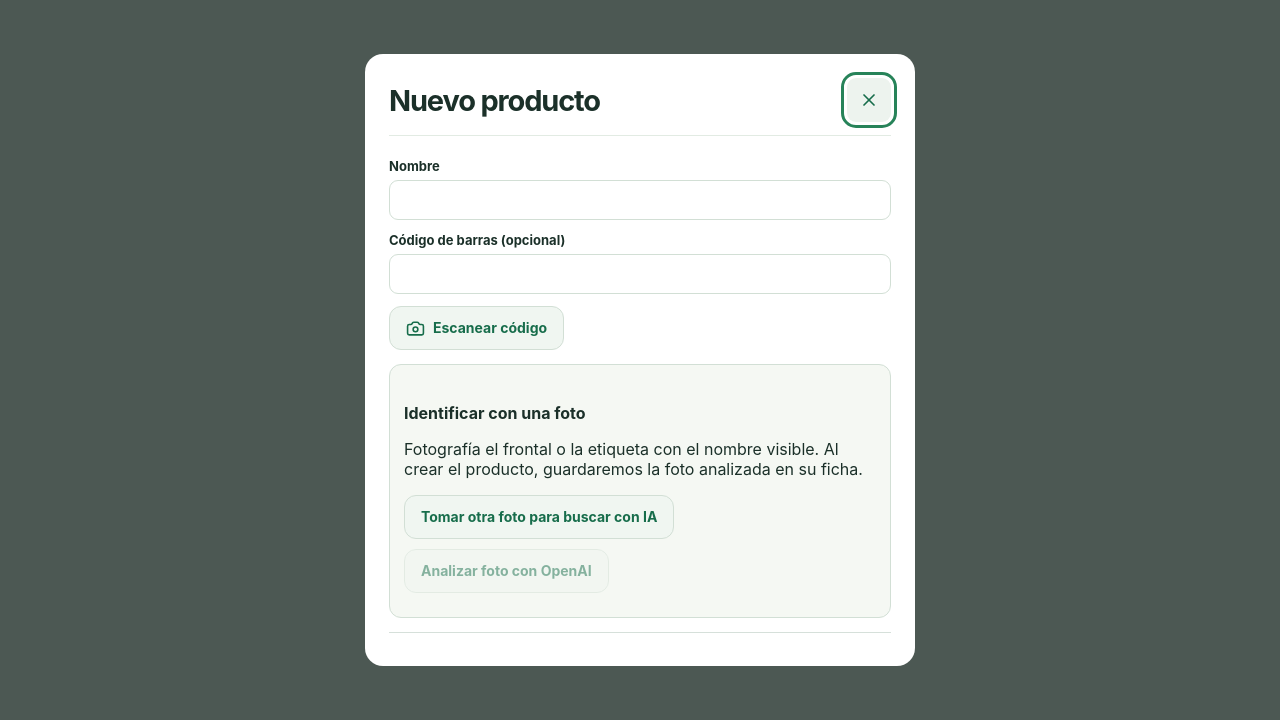
creates once on double click even when photo persistence fails
In the field labelled "Nombre": x=640, y=200 left=389, top=180, right=891, bottom=220, type "Leche"
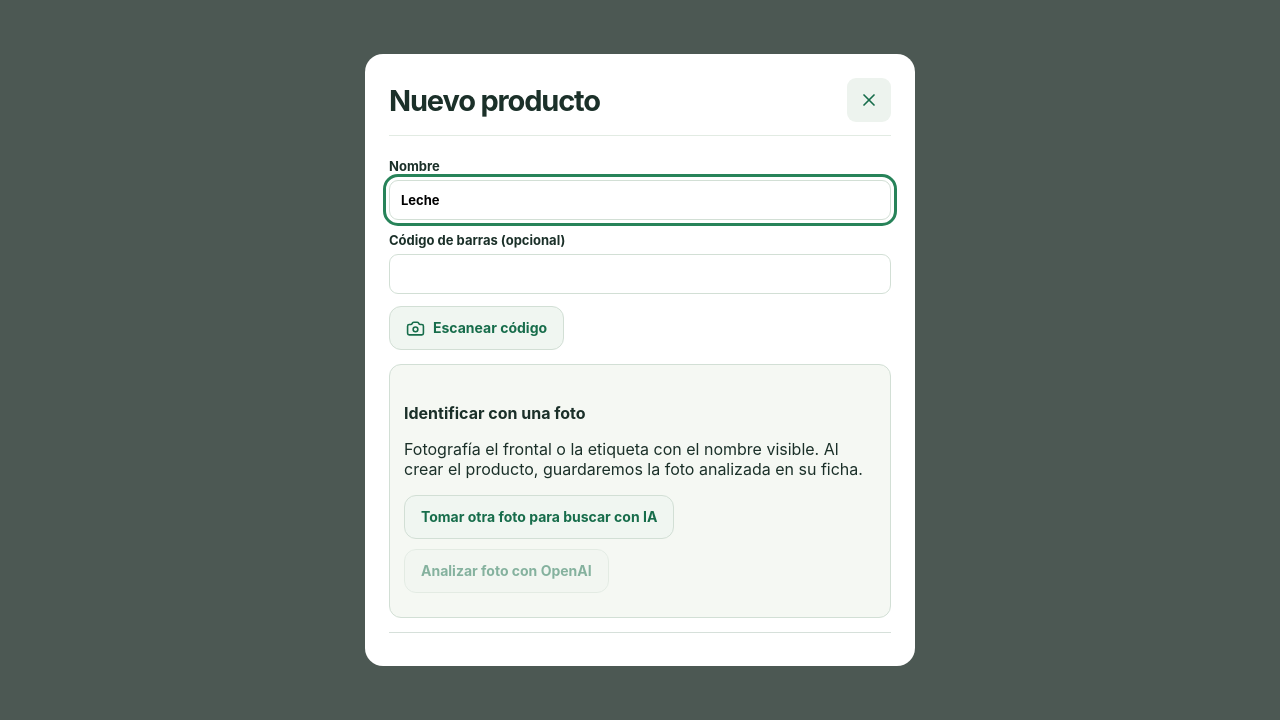
In the field labelled "Código de barras (opcional)": x=640, y=274 left=389, top=254, right=891, bottom=294, type "8412345678901"
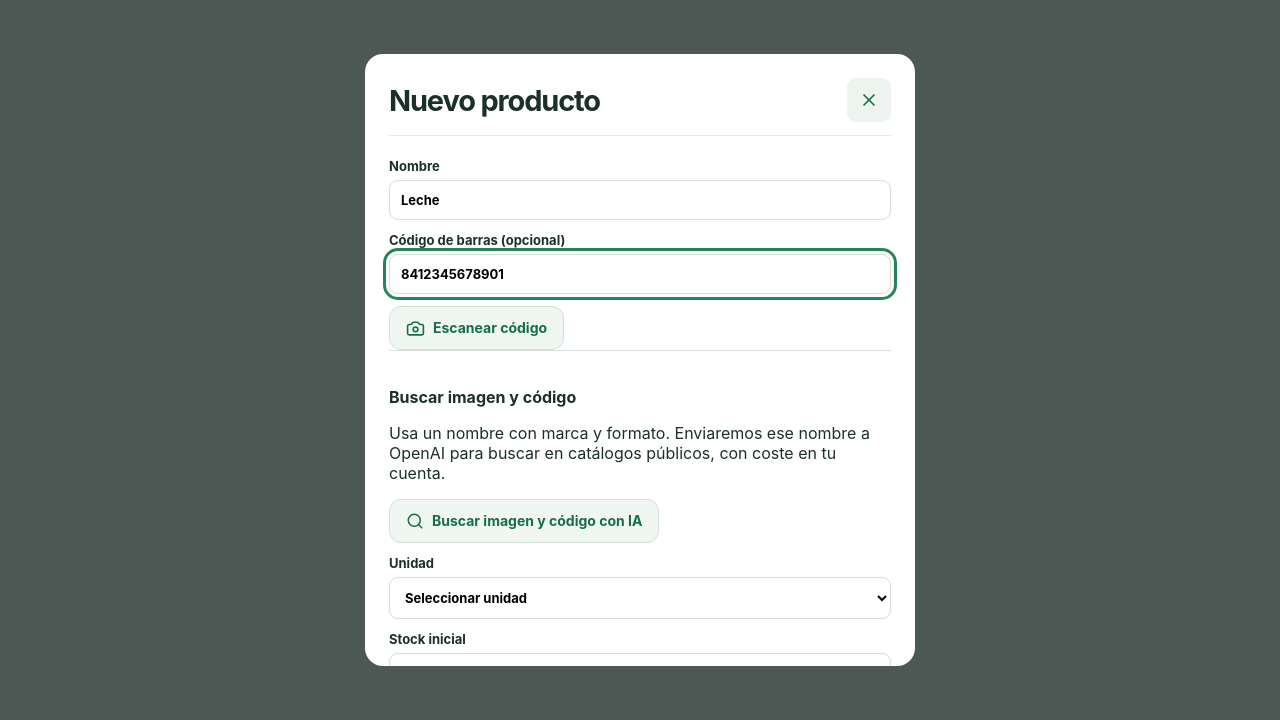
Select "Piece" in the dropdown labelled "Unidad": x=640, y=598 left=389, top=577, right=891, bottom=619
(page scrolled)
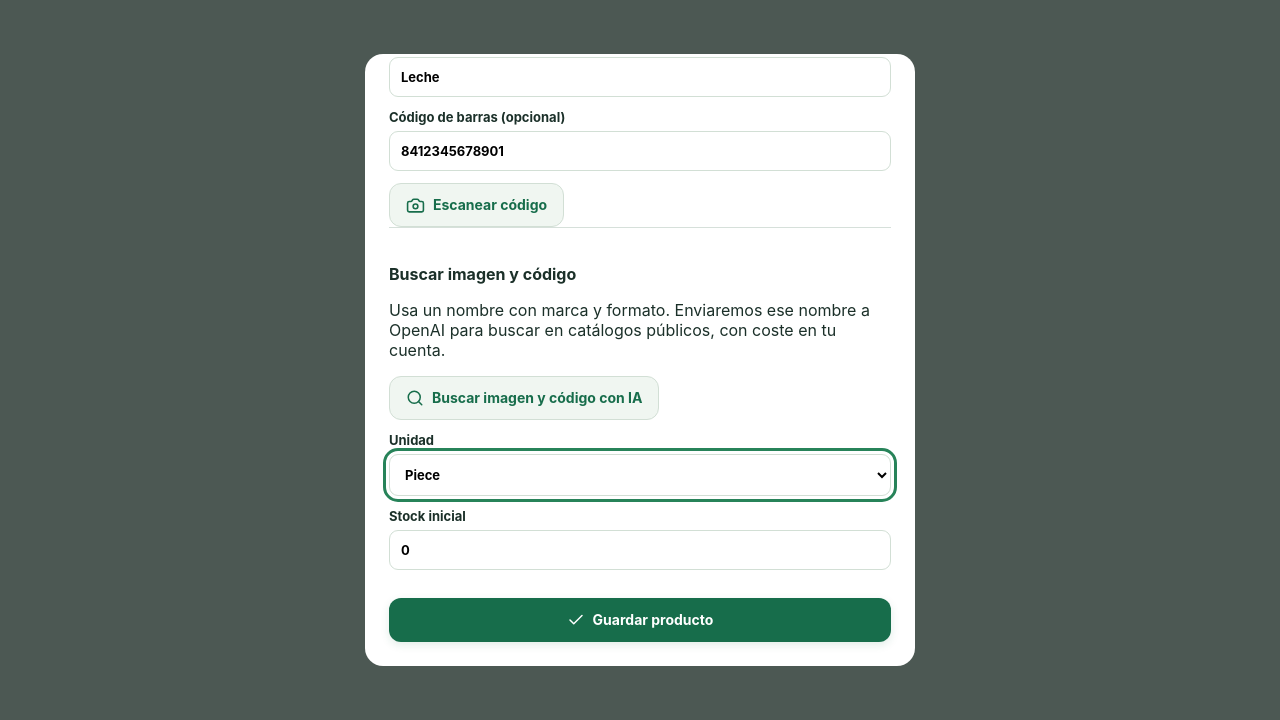
Double-click the button "Guardar producto": x=640, y=620 left=389, top=598, right=891, bottom=642
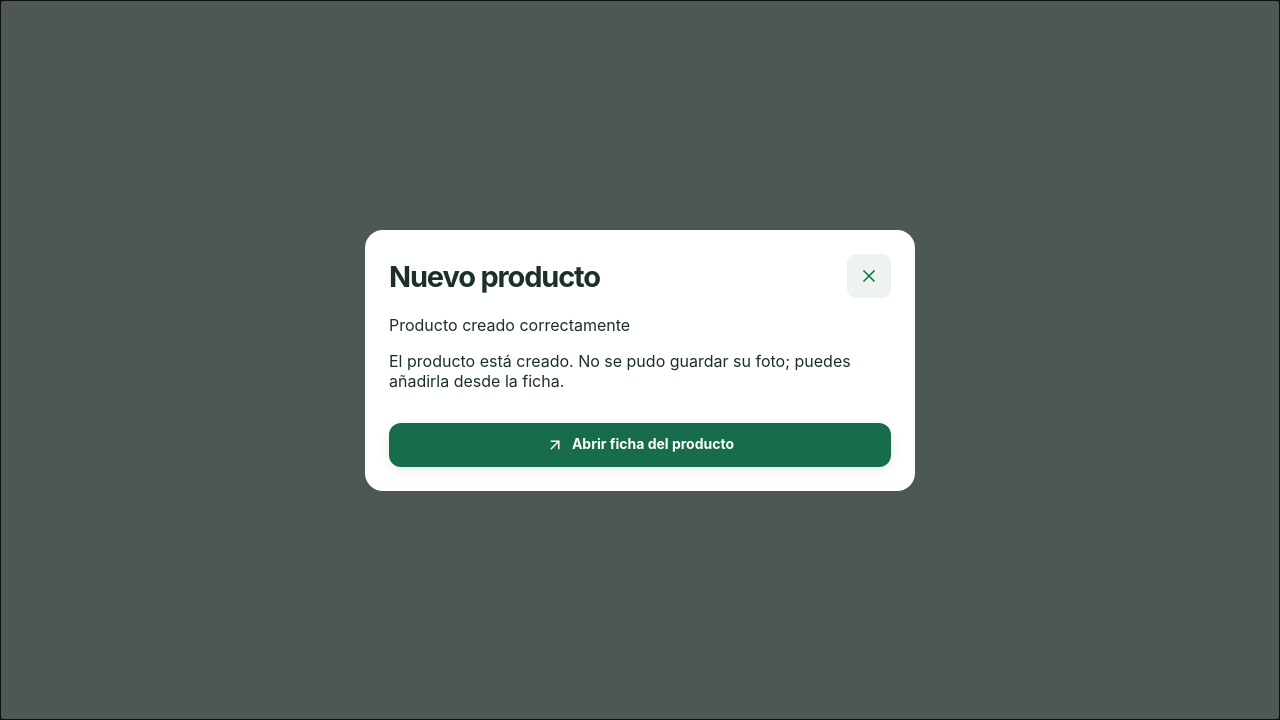
expect the text "El producto está creado. No se pudo guardar su foto" is shown: met, box left=389, top=350, right=851, bottom=390
expect the button "Guardar producto" is gone: met
